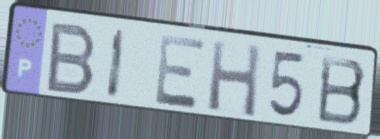5: (267, 48, 307, 120)
B: (42, 20, 99, 97), (315, 52, 369, 128)
E: (153, 31, 209, 112)
H: (205, 37, 263, 121)
I: (104, 26, 129, 104)
